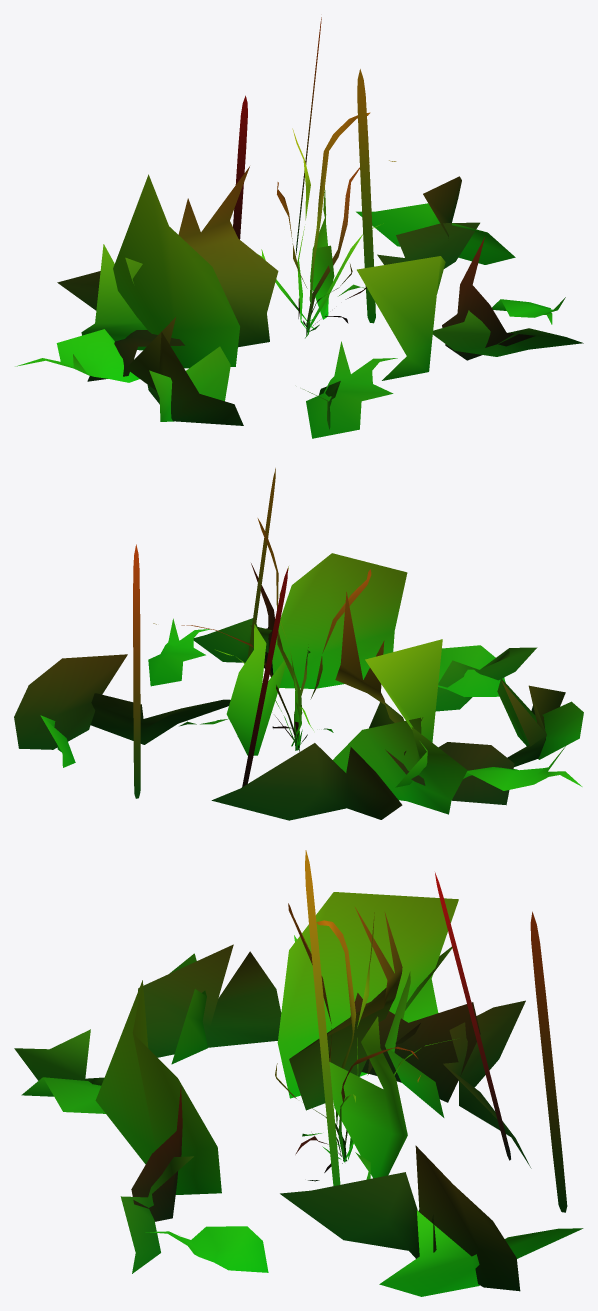
Rendered from SM_OW_GrassLawn_b_LOD1.fbx.
3 views of the same model, one above another, from view 1: azimuth 30°, elevation 25°; view 2: azimuth 150°, elevation 25°; view 3: azimuth 270°, elevation 25° (orthographic). The views are drawn at different scales.
Parts seen in each view (by area): view 1: SM_OW_GrassLawn_b_LOD1; view 2: SM_OW_GrassLawn_b_LOD1; view 3: SM_OW_GrassLawn_b_LOD1.
Part boxes in pixels (<box>): SM_OW_GrassLawn_b_LOD1: <box>15,17,583,438</box>; SM_OW_GrassLawn_b_LOD1: <box>14,468,583,820</box>; SM_OW_GrassLawn_b_LOD1: <box>14,850,583,1296</box>.
Bounding box in the file's own units: 0.6101 × 0.3124 × 0.4656.
